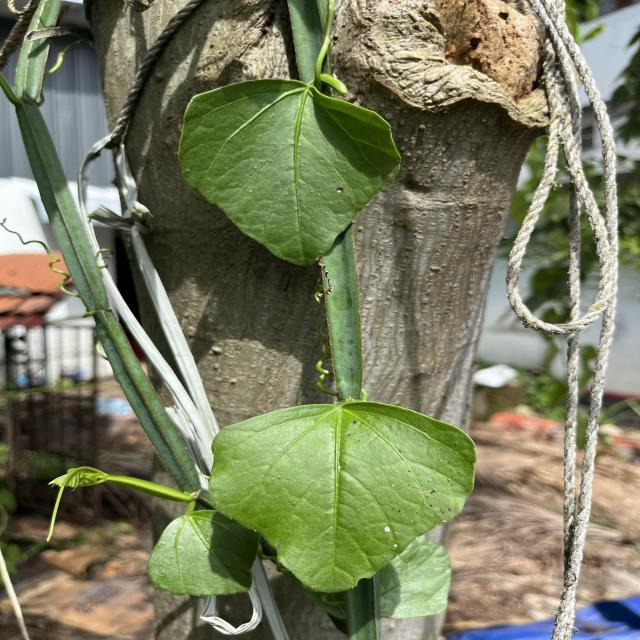Cissus quadrangularis: (204, 396, 482, 597), (172, 73, 406, 271)
